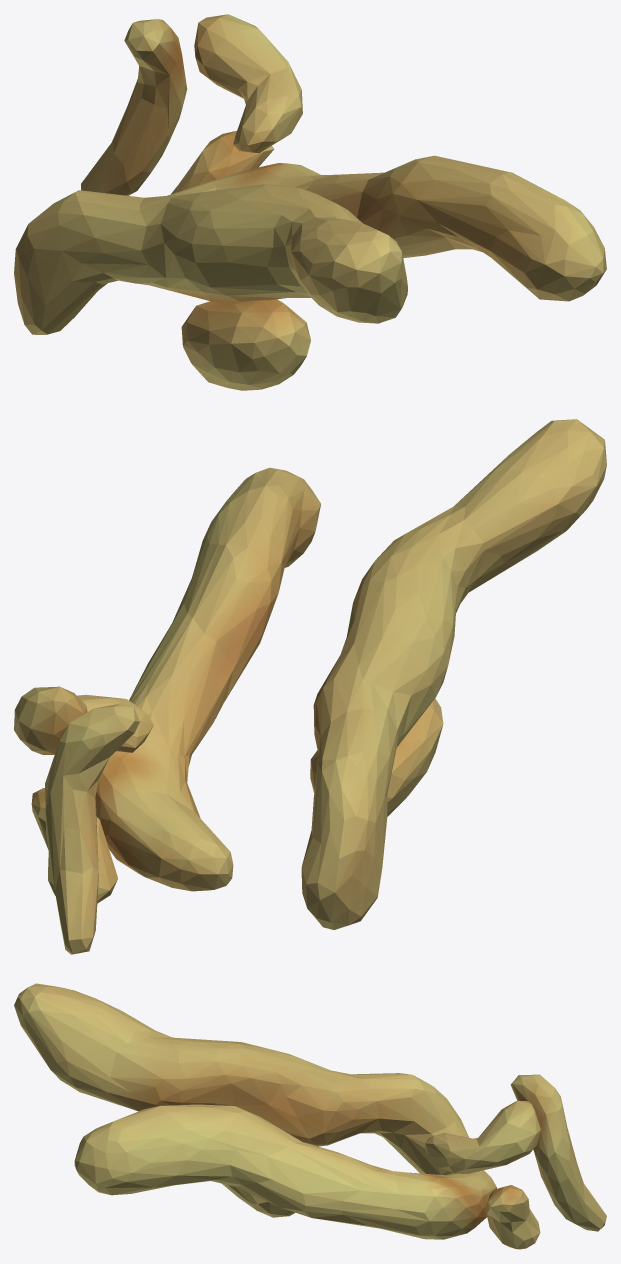
The model's file is nodes_lymph_jejunal2_LP.glb.
3 views of the same model, one above another, from view 1: azimuth 30°, elevation 25°; view 2: azimuth 150°, elevation 25°; view 3: azimuth 270°, elevation 25° (orthographic). The views are drawn at different scales.
Parts seen in each view (by area): view 1: nodes_lymph_jejunal2_LP; view 2: nodes_lymph_jejunal2_LP; view 3: nodes_lymph_jejunal2_LP.
Part boxes in pixels (left/top/right/bottom): nodes_lymph_jejunal2_LP: left=14, top=14, right=606, bottom=390; nodes_lymph_jejunal2_LP: left=14, top=419, right=606, bottom=954; nodes_lymph_jejunal2_LP: left=14, top=983, right=606, bottom=1249.
Bounding box in the file's own units: 0.000437 × 0.000339 × 0.000862.
1 material, 1 textured.
